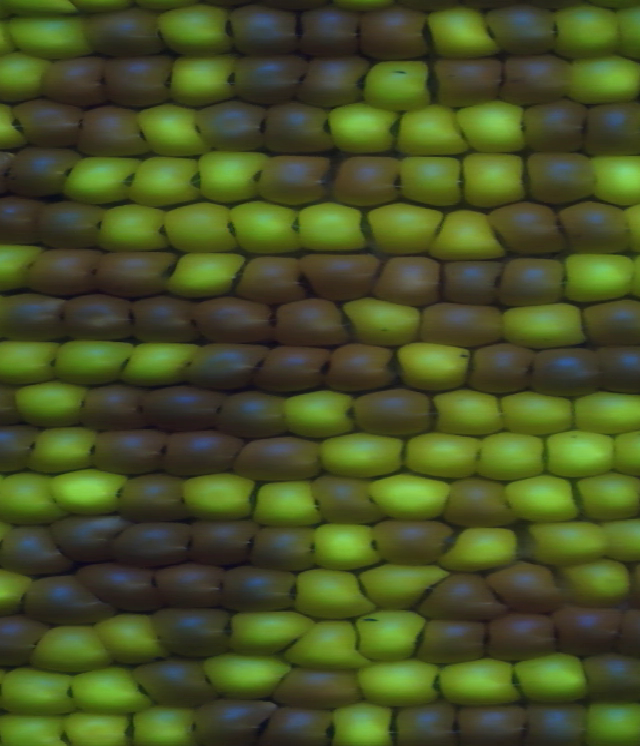fluorescent: (364, 201, 443, 257), (297, 198, 371, 257), (343, 297, 425, 350), (293, 567, 372, 621), (564, 249, 636, 307), (284, 620, 370, 668), (318, 430, 403, 478), (158, 3, 234, 56), (166, 249, 246, 299), (361, 59, 433, 114), (134, 103, 207, 157), (542, 429, 619, 480), (370, 473, 450, 521), (431, 208, 500, 263), (358, 566, 444, 610), (436, 661, 520, 706), (163, 204, 237, 255), (202, 651, 284, 697), (553, 7, 620, 63), (228, 202, 299, 254), (398, 343, 473, 392), (500, 476, 578, 523), (169, 57, 237, 110), (398, 107, 470, 157), (77, 668, 152, 716), (55, 340, 131, 387), (96, 201, 166, 252), (197, 149, 263, 203), (424, 8, 498, 56), (281, 391, 355, 439), (406, 432, 481, 479), (33, 627, 113, 671), (133, 157, 203, 207), (13, 379, 83, 429), (502, 392, 576, 439), (529, 519, 604, 565), (227, 611, 313, 651), (329, 104, 399, 153), (180, 471, 251, 519), (463, 155, 526, 209), (314, 523, 386, 570), (65, 153, 131, 204), (552, 562, 634, 603), (8, 18, 84, 62), (568, 57, 640, 103), (28, 427, 97, 475), (361, 662, 438, 705), (48, 469, 123, 513), (399, 156, 462, 208), (506, 305, 584, 347), (515, 655, 584, 702), (576, 471, 640, 521), (0, 672, 78, 713), (119, 344, 195, 386), (252, 481, 321, 527), (440, 528, 515, 570), (356, 612, 423, 659), (461, 102, 525, 151), (480, 435, 548, 481), (433, 392, 506, 434), (0, 472, 58, 524), (0, 339, 60, 388), (101, 614, 159, 661), (333, 701, 393, 746), (589, 156, 640, 208), (573, 392, 640, 431), (586, 699, 640, 746), (0, 55, 53, 99), (0, 241, 39, 292), (603, 517, 640, 563), (0, 569, 30, 617)
nonfluorescent: (24, 572, 112, 629), (230, 435, 323, 481), (138, 383, 225, 431), (421, 570, 506, 619), (192, 292, 275, 342), (76, 106, 149, 162), (133, 660, 218, 708), (82, 562, 158, 615), (488, 202, 565, 254), (219, 564, 300, 613), (418, 302, 503, 348), (300, 250, 378, 300), (118, 519, 198, 567), (331, 153, 402, 207), (195, 99, 266, 153), (502, 53, 573, 107), (153, 610, 231, 659), (353, 389, 434, 436), (64, 294, 136, 346), (0, 525, 73, 576), (490, 564, 563, 615), (371, 520, 450, 567), (258, 157, 332, 207), (183, 342, 267, 386), (91, 428, 166, 477), (52, 512, 125, 562), (192, 700, 273, 745), (361, 7, 427, 62), (229, 7, 303, 56), (97, 250, 173, 297), (266, 104, 334, 156), (7, 147, 72, 201), (102, 55, 169, 107), (531, 345, 598, 397), (28, 248, 102, 295), (275, 300, 349, 347), (324, 343, 398, 390), (562, 202, 631, 252), (485, 616, 558, 663), (159, 563, 229, 612), (417, 615, 487, 664), (44, 57, 106, 112), (469, 344, 532, 398), (88, 10, 163, 55), (583, 100, 640, 159), (233, 55, 306, 101), (446, 479, 513, 529), (428, 59, 504, 103), (557, 604, 621, 656), (131, 292, 196, 343), (527, 151, 593, 201), (274, 670, 363, 707), (311, 477, 378, 526), (258, 347, 328, 393), (303, 57, 366, 107), (0, 293, 65, 341), (237, 253, 304, 299), (121, 471, 183, 520), (455, 703, 527, 745), (212, 393, 283, 435), (500, 257, 563, 304), (488, 7, 552, 53), (193, 520, 257, 566), (13, 99, 78, 144), (165, 432, 238, 472), (523, 103, 583, 151), (38, 202, 102, 246), (253, 527, 314, 573), (302, 7, 358, 57), (378, 259, 441, 303), (586, 300, 640, 350), (582, 657, 640, 703), (523, 702, 583, 746), (443, 257, 499, 302), (83, 383, 139, 428), (268, 708, 333, 746), (393, 705, 456, 744), (0, 193, 41, 247), (0, 617, 47, 664), (599, 347, 640, 397), (0, 426, 33, 474)
